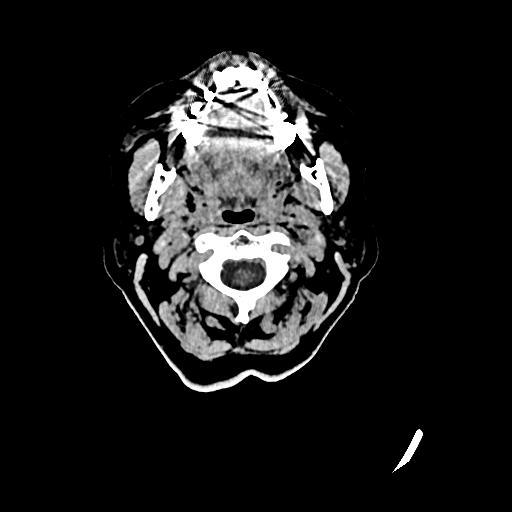Normal_Brain: (94, 55, 381, 399)
